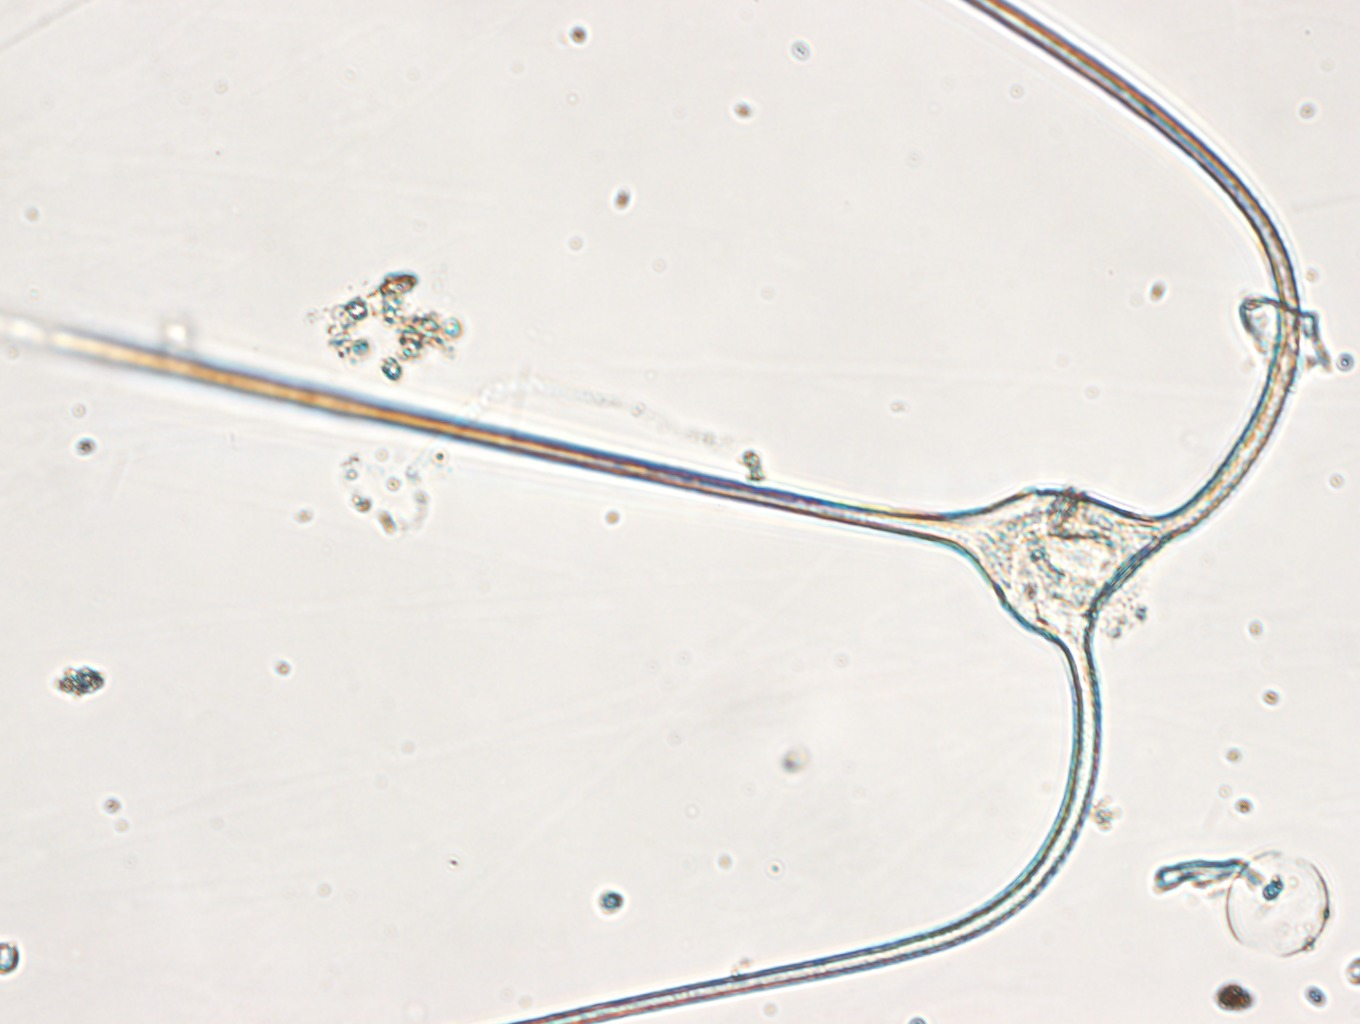ceratium trichoceros: (8, 3, 1300, 1021)
